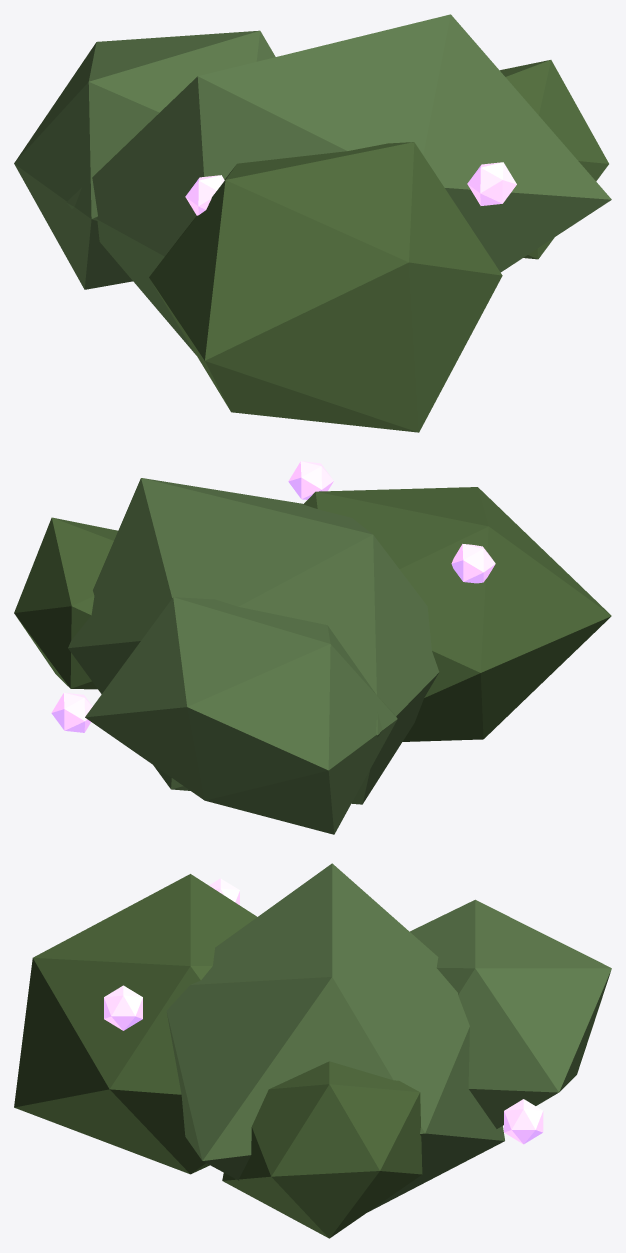
The model's file is bush_glowberry.glb.
3 renders of one model, top to bottom at view 1: azimuth 30°, elevation 25°; view 2: azimuth 150°, elevation 25°; view 3: azimuth 270°, elevation 25°, orthographic. The views are drawn at different scales.
Visible parts, largest first — view 1: bush_2; view 2: bush_2; view 3: bush_2.
Boxes of the visible parts, x1,y1,x2,y2 form: bush_2: (14, 14, 611, 432); bush_2: (14, 461, 611, 834); bush_2: (14, 863, 611, 1238).
Bounding box in the file's own units: 0.8177 × 0.4602 × 0.9107.
